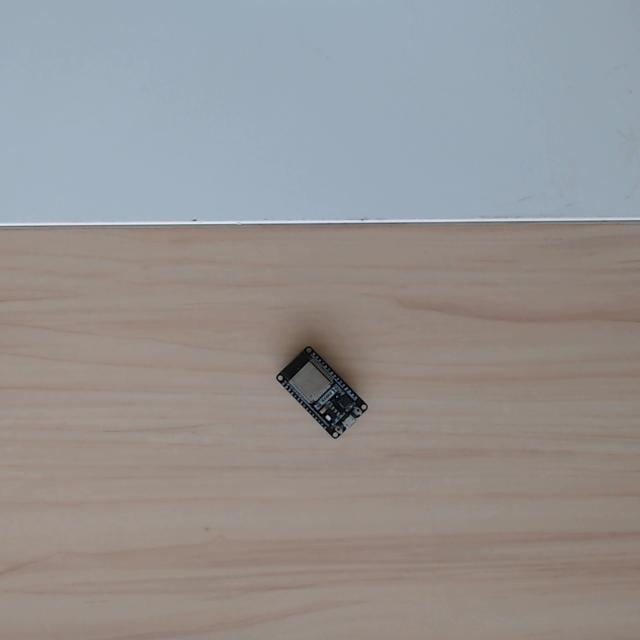ESP32-DevKit: (272, 343, 373, 445)
